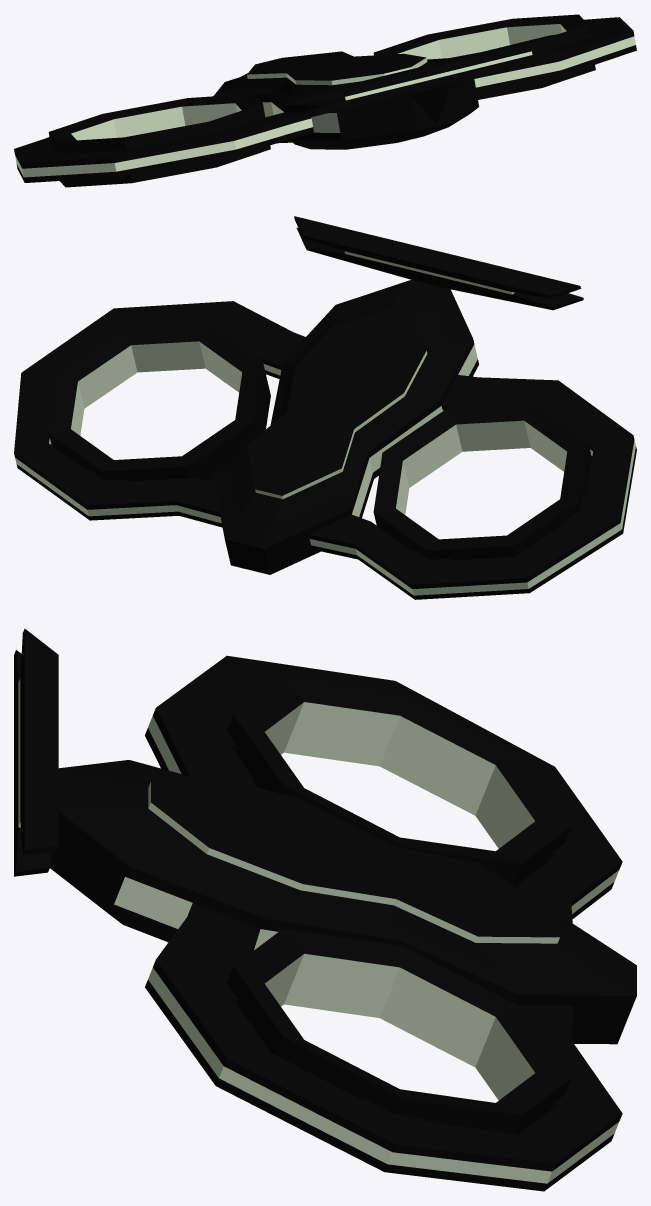
The model's file is SM_CYBER_Drone.fbx.
3 renders of one model, top to bottom at view 1: azimuth 30°, elevation 25°; view 2: azimuth 150°, elevation 25°; view 3: azimuth 270°, elevation 25°, orthographic. The views are drawn at different scales.
Parts seen in each view (by area): view 1: SM_CYBER_Drone; view 2: SM_CYBER_Drone; view 3: SM_CYBER_Drone.
Boxes of the visible parts, x1,y1,x2,y2 form: SM_CYBER_Drone: [14, 14, 636, 187]; SM_CYBER_Drone: [14, 216, 636, 599]; SM_CYBER_Drone: [14, 628, 636, 1191].
Bounding box in the file's own units: 0.1807 × 0.0528 × 0.1026.
